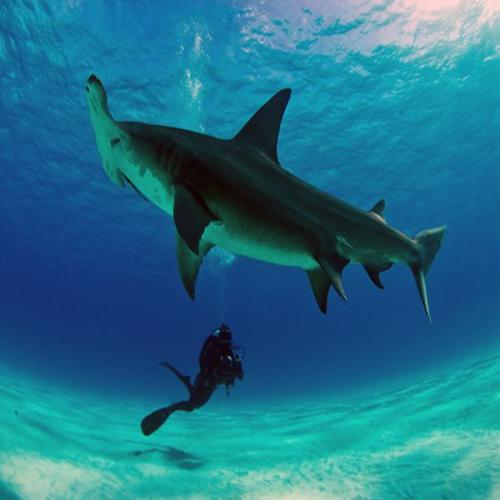shark-endangered: (86, 76, 449, 322)
